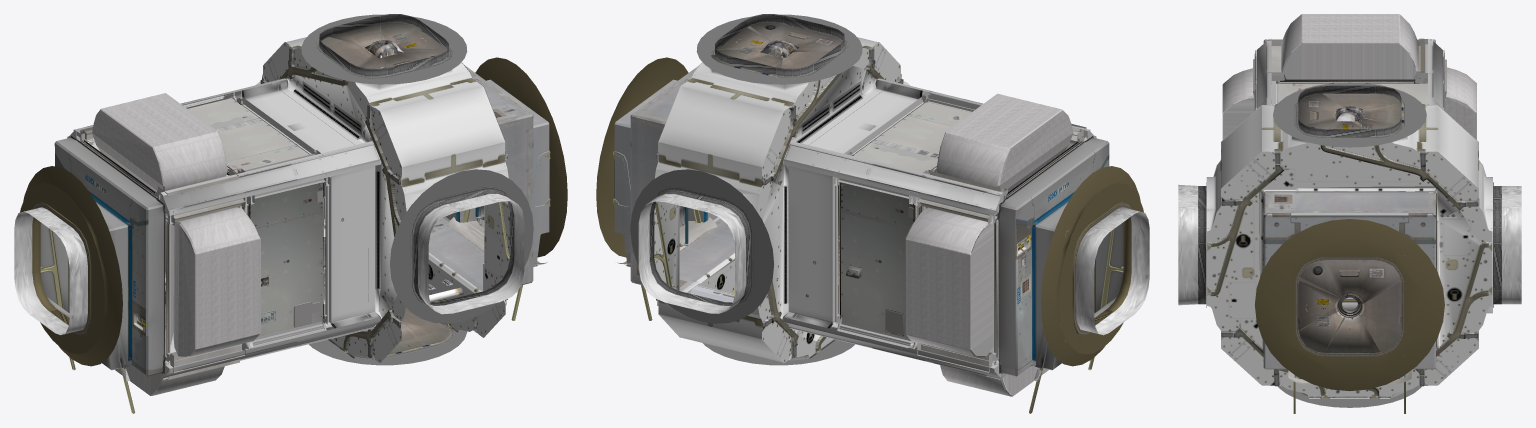
3 views of the same model, side by side, from view 1: azimuth 30°, elevation 25°; view 2: azimuth 150°, elevation 25°; view 3: azimuth 270°, elevation 25° (orthographic). The views are drawn at different scales.
Visible parts, largest first — view 1: Node2_Int_Hub_ZNH; view 2: Node2_Int_Hub_ZNH; view 3: Node2_Int_Hub_ZNH.
Boxes of the visible parts, x1,y1,x2,y2 form: Node2_Int_Hub_ZNH: (14,14,567,413); Node2_Int_Hub_ZNH: (596,14,1149,413); Node2_Int_Hub_ZNH: (1178,14,1521,413).
Bounding box in the file's own units: 6.42 × 4.25 × 3.74.
Materials: 6 (6 with a texture image).
